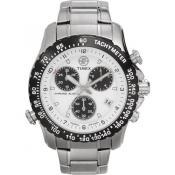watch: (20, 36, 150, 146)
